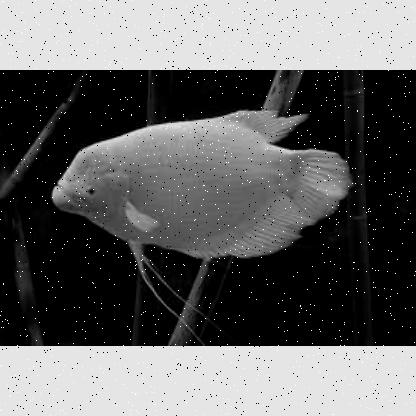gurame: (52, 112, 341, 256)
